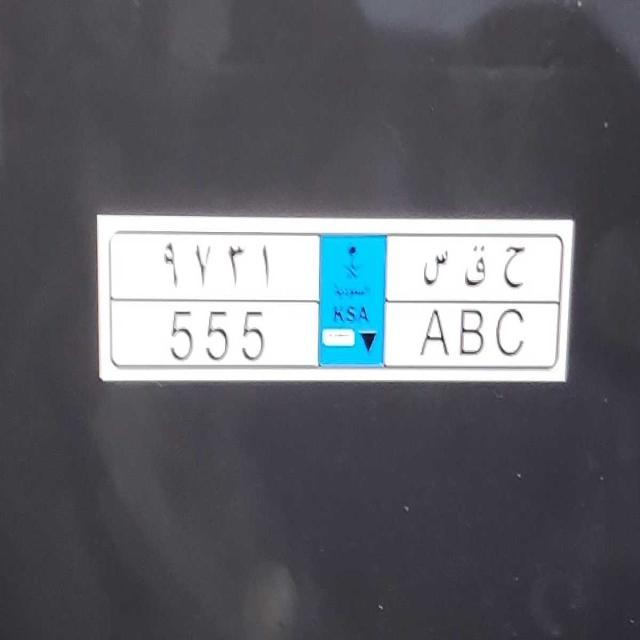license_plate: (159, 299, 539, 370)
